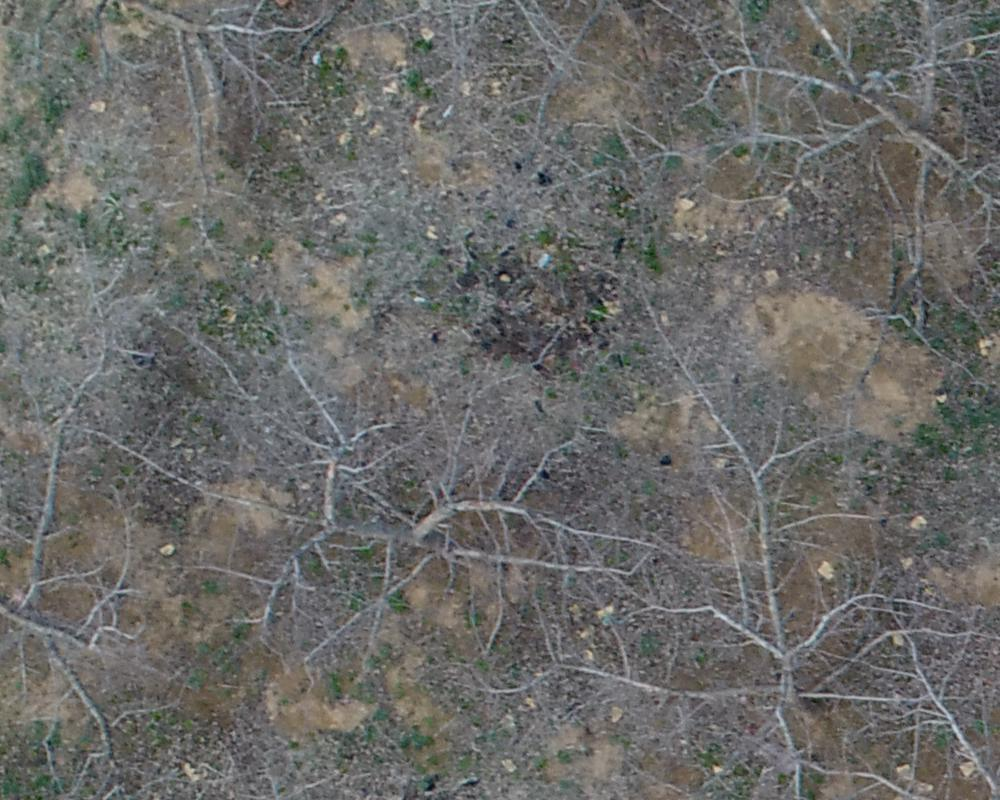apple: (69, 309, 664, 695), (519, 295, 959, 790), (634, 10, 990, 305)
